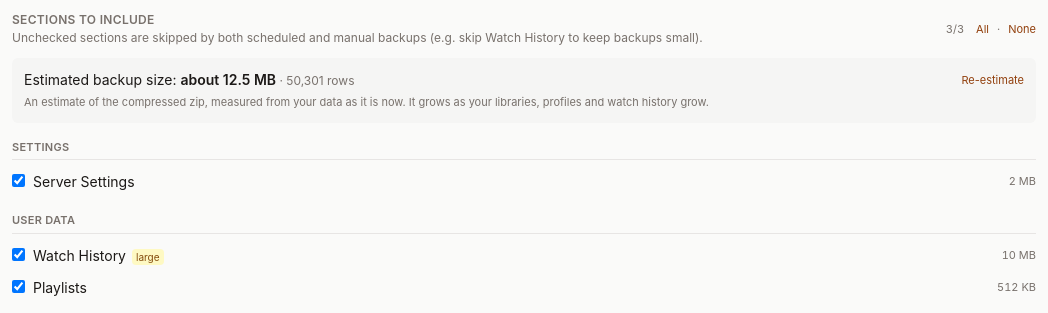
Test: BackupSectionPicker › reports when nothing is ticked
The width and height of the screenshot is (1048, 313).
Click the button "None".
click(1022, 29)  # box x1=1008 y1=21 x2=1036 y2=37
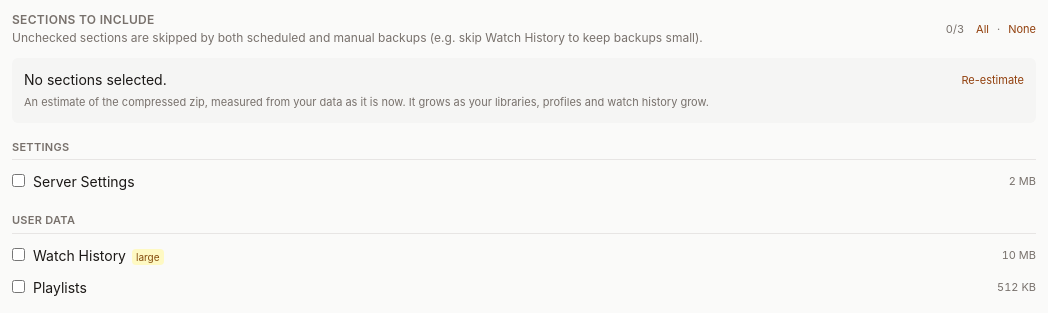
Now the text "No sections selected." is shown, box x1=24 y1=71 x2=167 y2=88
